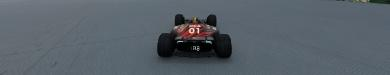Car: (156, 13, 232, 58)
